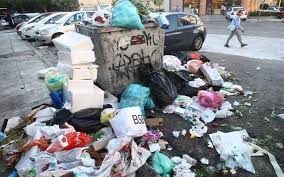garbage: (81, 76, 244, 177), (53, 36, 166, 177), (7, 109, 221, 177)
